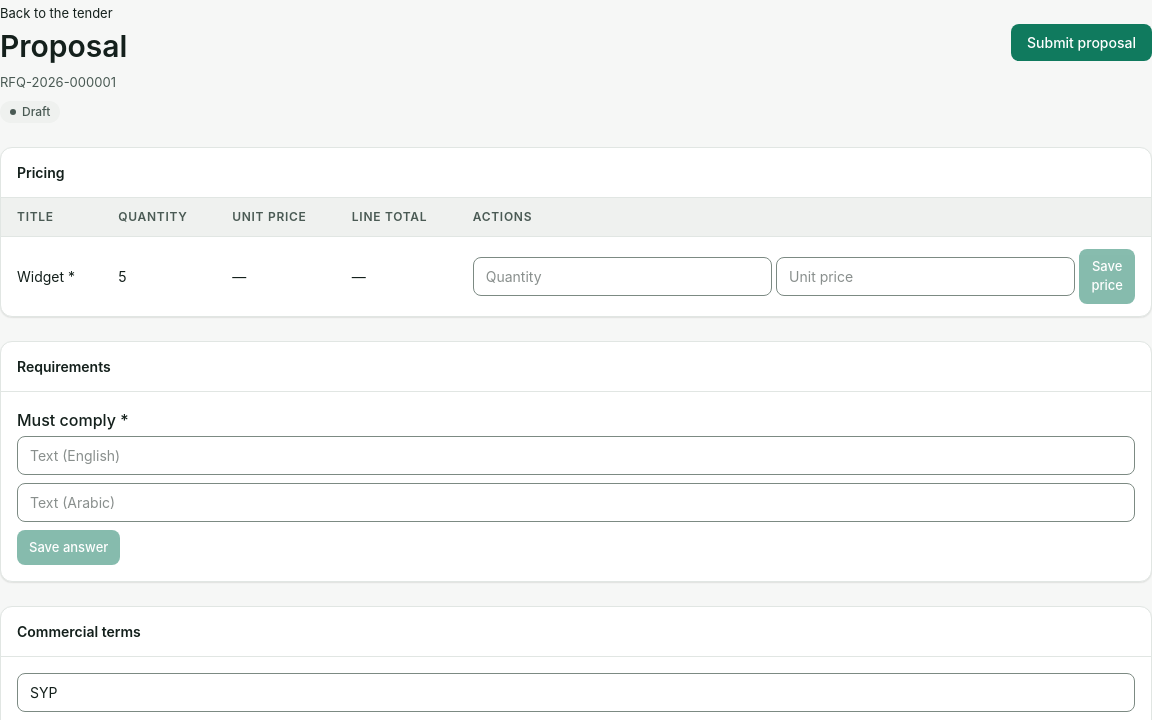
Test case: SupplierProposalPage › Draft: answering a requirement shows a success toast
Step 1. Type "Yes" into the field named "Text (English) - Must comply" → (576, 455), box [17,436,1135,474]
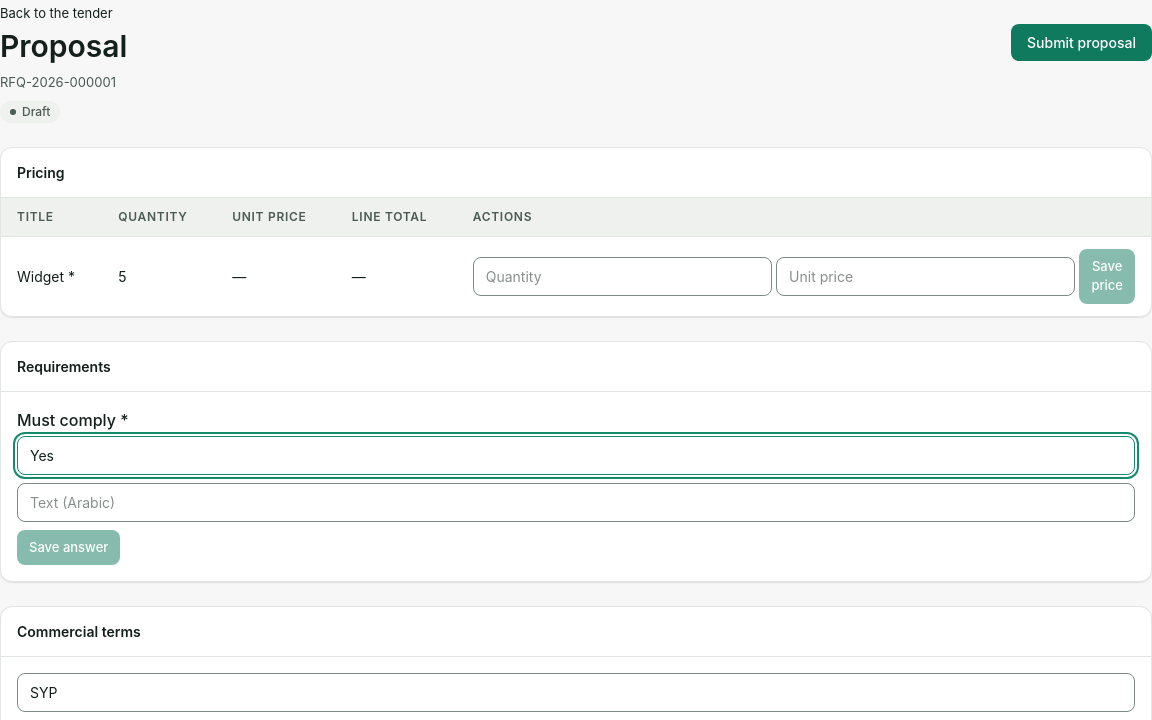
Step 2. Type "نعم" into the field named "Text (Arabic) - Must comply" → (576, 502), box [17,482,1135,522]
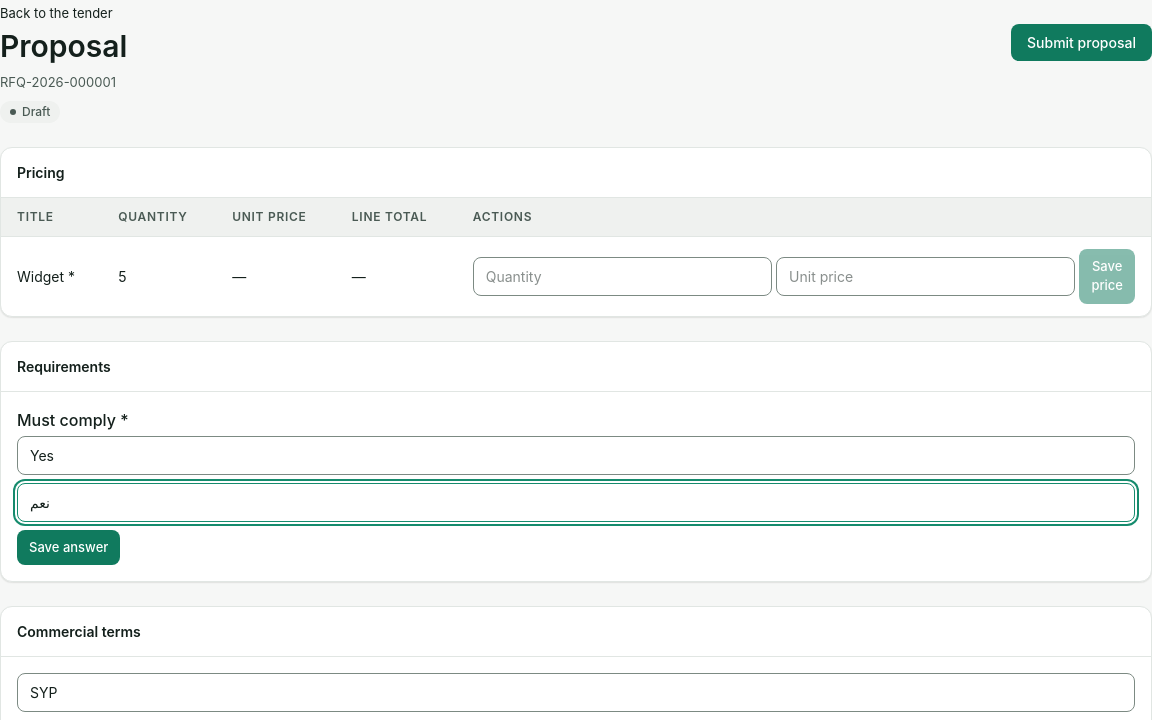
Step 3. Click the button "Save answer" → (69, 547), box [17,530,120,565]
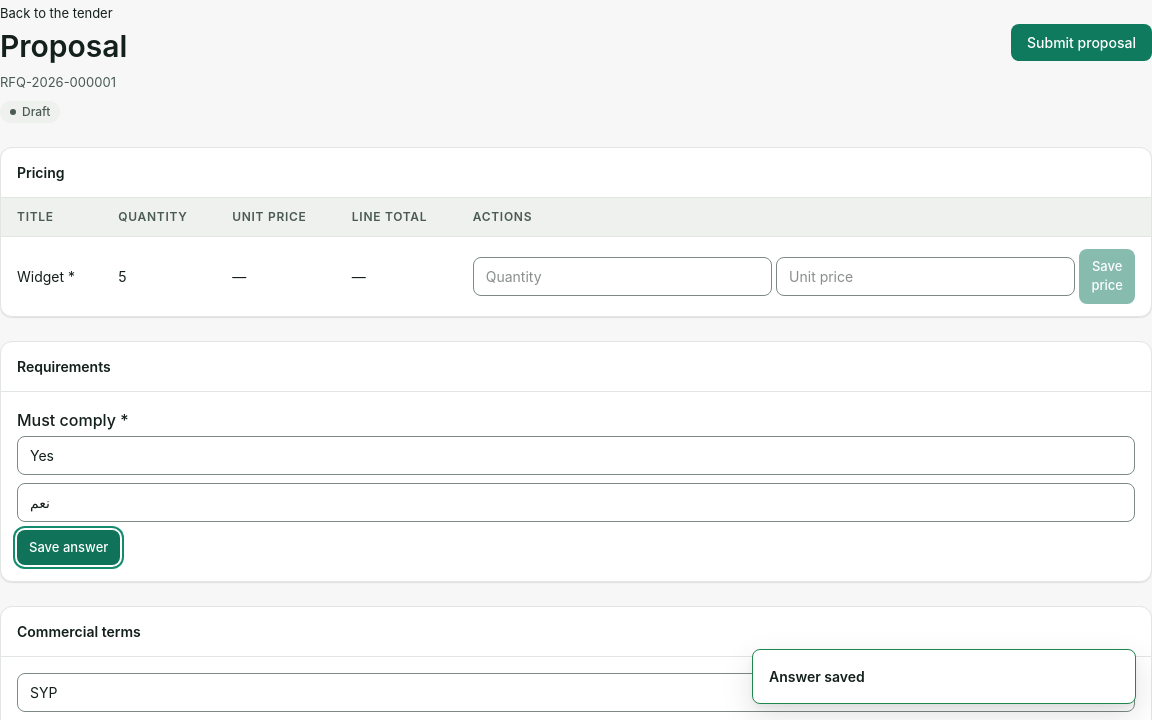
Expected: the text "Answer saved" is shown, [769,668,865,685]
